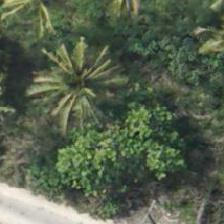coconut_tree: (31, 37, 121, 127)
